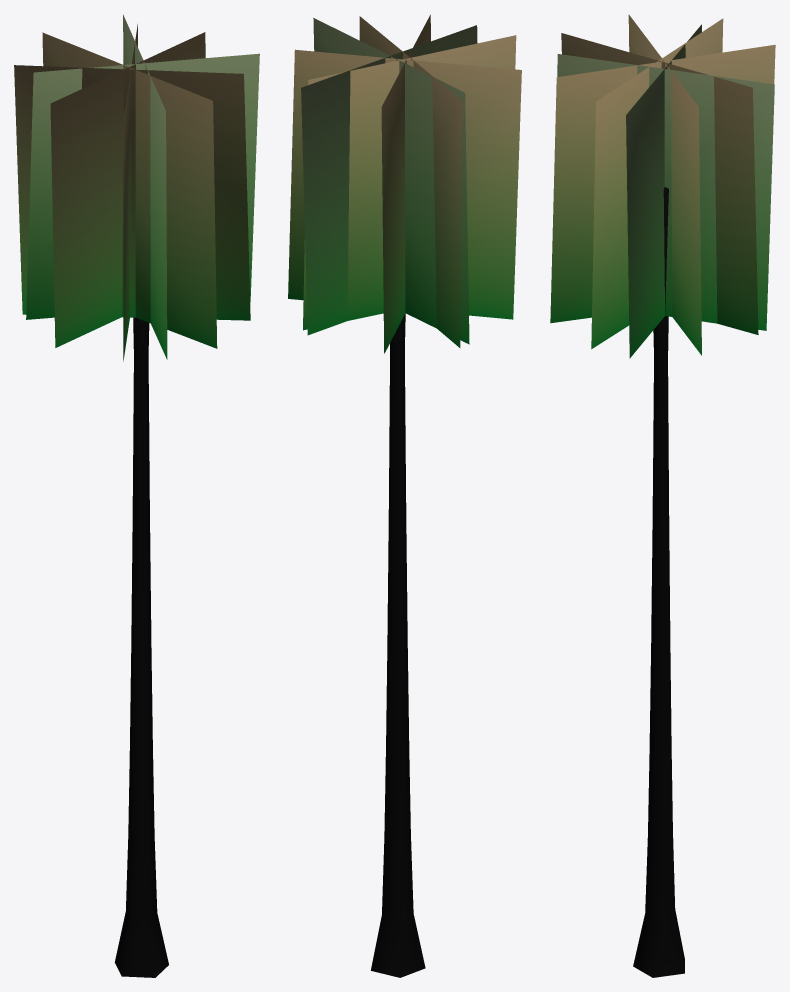
File: Super_Palm_3.fbx
3 views of the same model, side by side, from view 1: azimuth 30°, elevation 25°; view 2: azimuth 150°, elevation 25°; view 3: azimuth 270°, elevation 25° (orthographic).
Parts seen in each view (by area): view 1: Tree_3; view 2: Tree_3; view 3: Tree_3.
Boxes of the visible parts, <box> form: Tree_3: <box>14,14,259,977</box>; Tree_3: <box>288,14,521,977</box>; Tree_3: <box>550,14,775,977</box>.
Size of the model in its own units: 522 by 2165 by 490.
